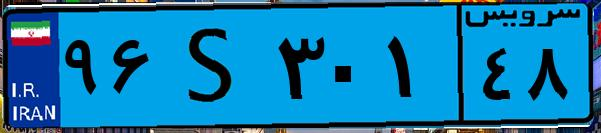0: (330, 28, 385, 110)
1: (385, 28, 445, 110)
3: (270, 28, 330, 110)
4: (475, 38, 525, 113)
6: (110, 28, 158, 98)
8: (525, 38, 570, 115)
9: (57, 26, 110, 100)
S: (158, 12, 270, 120)
